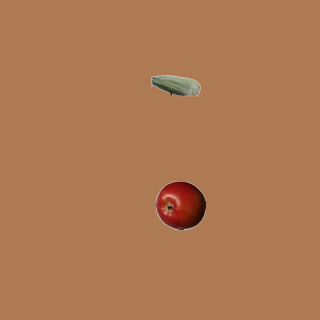Apple Braeburn: (155, 180, 205, 230)
Corn Husk: (150, 60, 200, 110)
